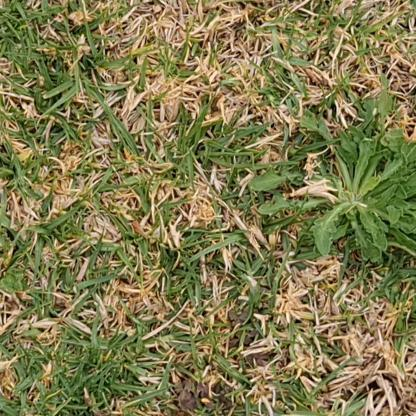Weeds: (250, 76, 415, 265)
